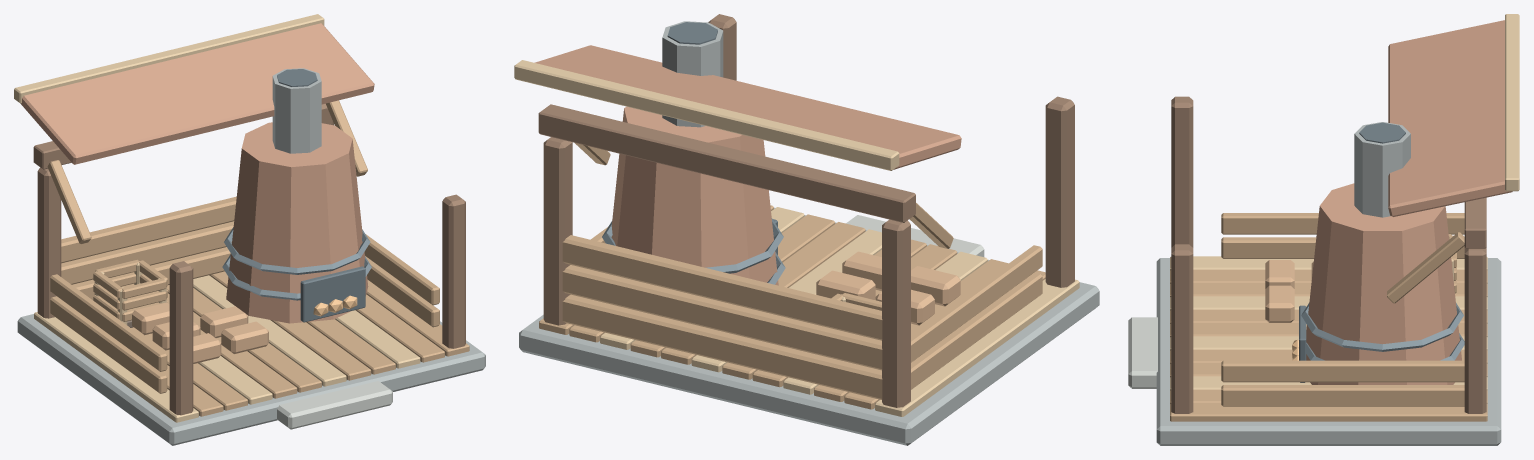
The model's file is smelter.fbx.
The picture shows the model from 3 angles, left to right: view 1: azimuth 30°, elevation 25°; view 2: azimuth 150°, elevation 25°; view 3: azimuth 270°, elevation 25°; orthographic projection. The views are drawn at different scales.
Visible parts, largest first — view 1: smelter_mesh; view 2: smelter_mesh; view 3: smelter_mesh.
Part boxes in pixels (box(x1,y1,x2,y2)): smelter_mesh: box(14, 14, 485, 445); smelter_mesh: box(514, 14, 1099, 445); smelter_mesh: box(1128, 14, 1519, 445).
Size of the model in its own units: 3.32 by 2.41 by 3.2.
